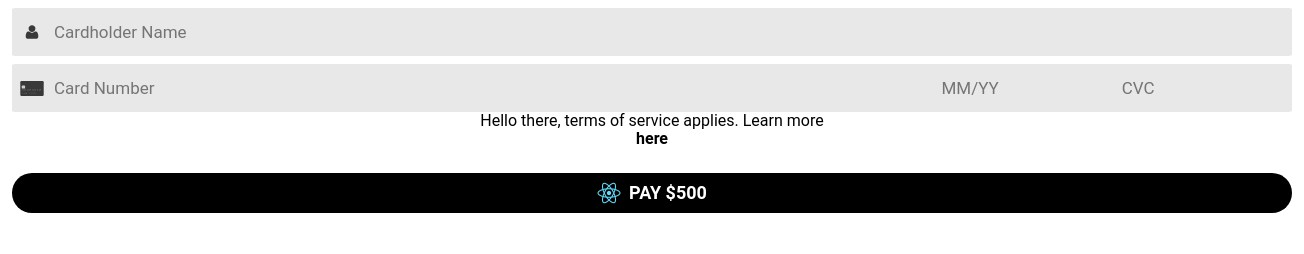
it: <CheckoutContainer /> › renders an error on wrong CVC provided for card type
Type "378282246310005" into the field named "card-number" at (498,88), box [44,66,952,110]
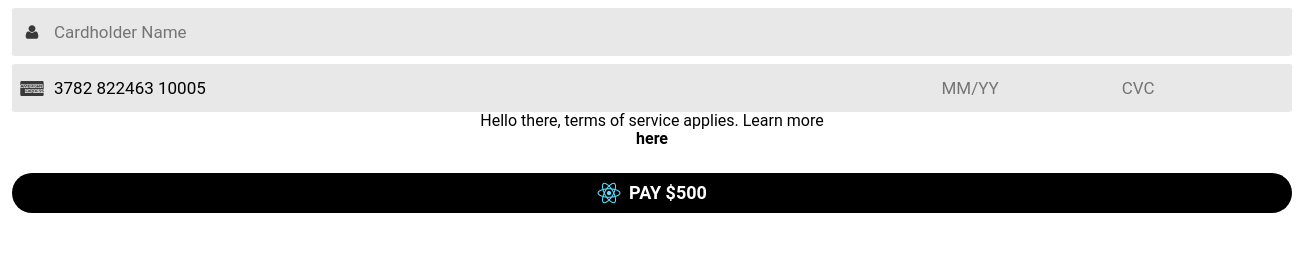
Type "12/22" into the field named "card-expiry" at (1032,88), box [932,66,1132,110]
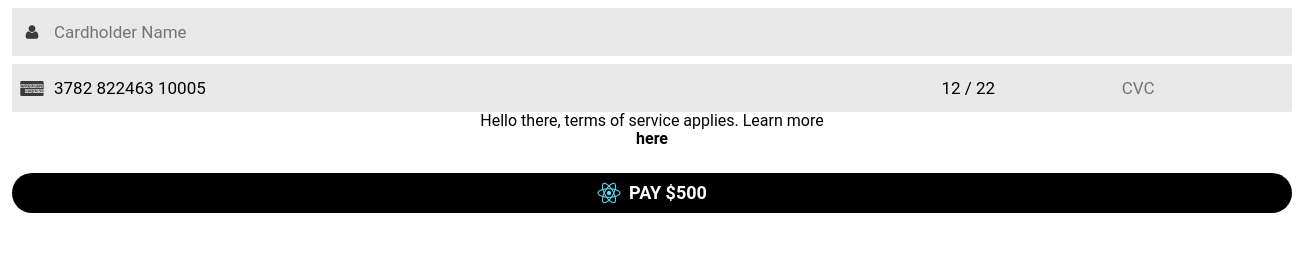
Type "123" into the field named "card-cvc" at (1196,88), box [1112,66,1280,110]
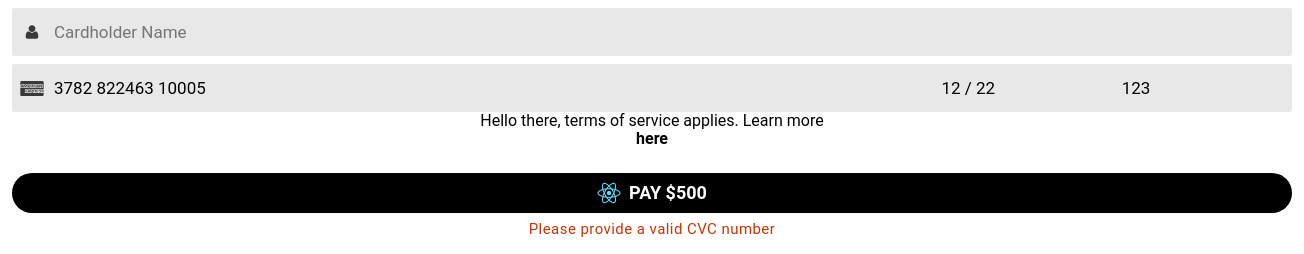
Expected: the text with id "helper-container" reads "Please provide a valid CVC number", [529,220,775,238]
